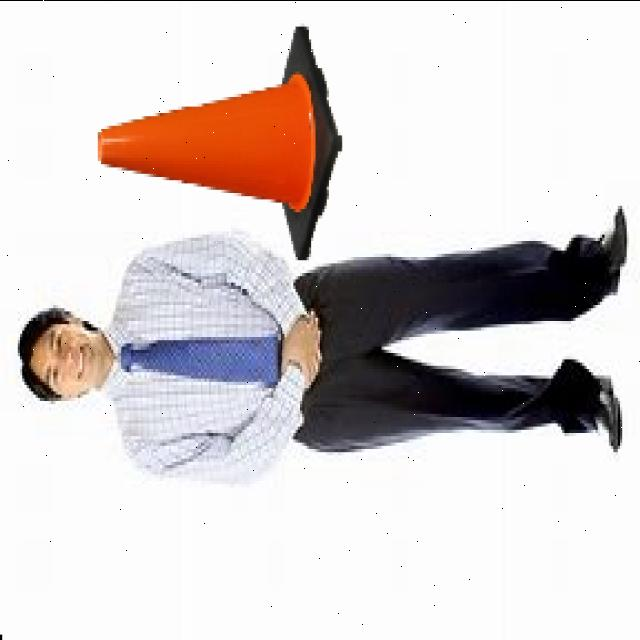traffic cone: (91, 18, 349, 270)
